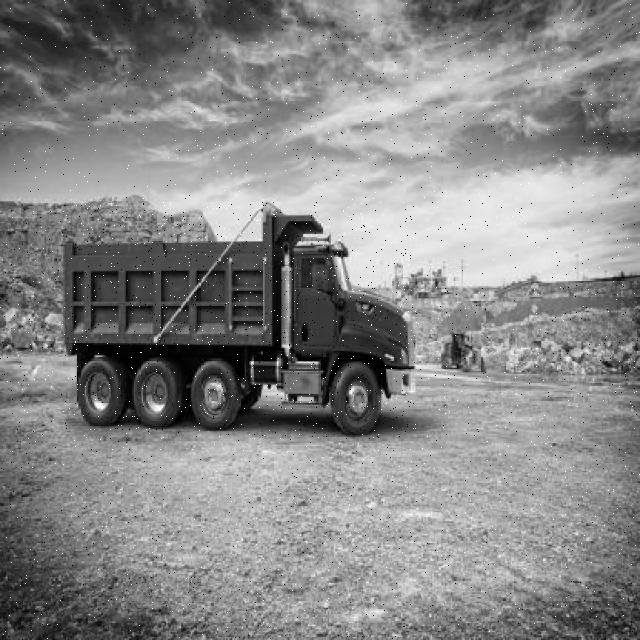Truck- Multi-Axle: (63, 202, 417, 438)
